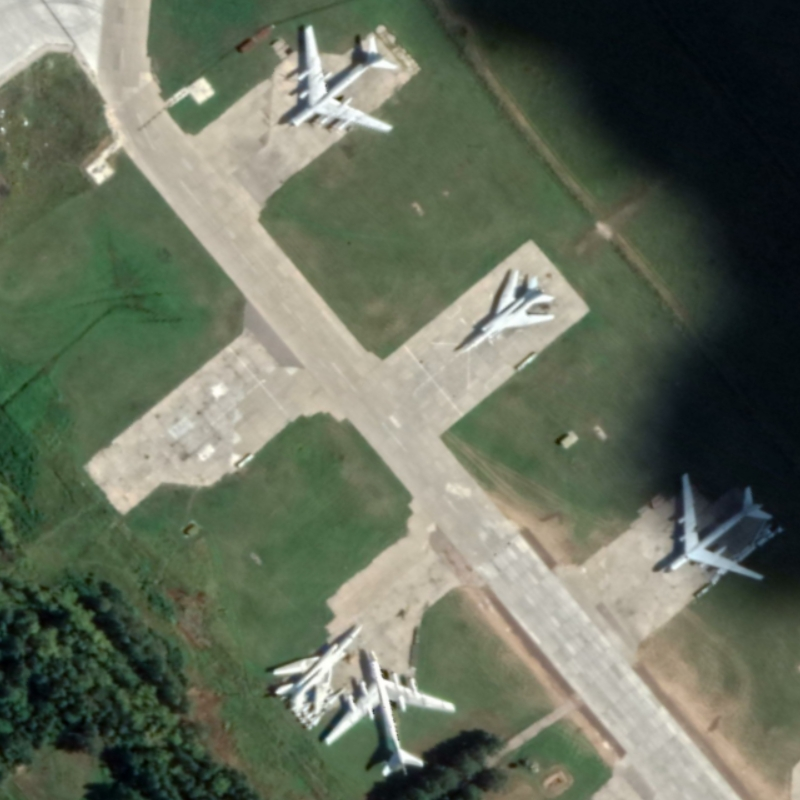A12: (270, 623, 364, 717), (459, 267, 557, 354)
A17: (322, 648, 459, 779), (286, 23, 399, 136), (662, 471, 775, 583)
